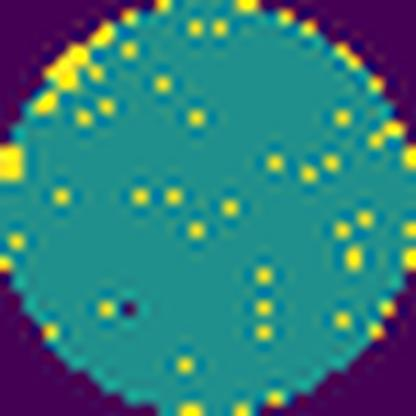Edge-Loc: (38, 44, 94, 98), (0, 140, 27, 182)
